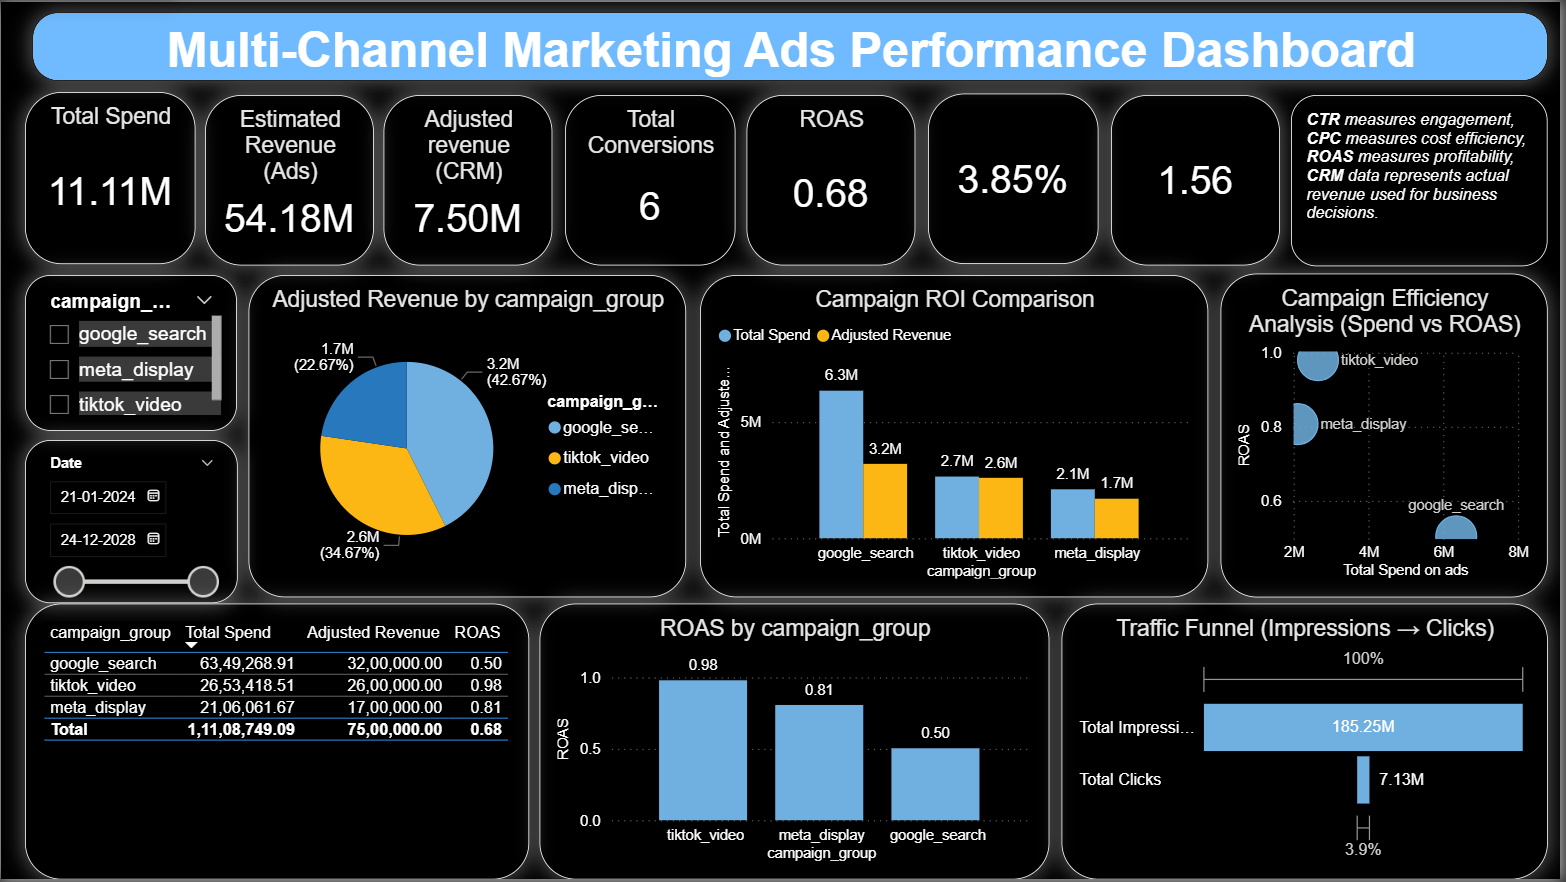

What the dashboard file says about the page in this screenshot:
{"tool":"powerbi","page":{"name":"Page 1","canvas":[1280,720],"ordinal":0},"visuals":[{"type":"card","title":"Total Spend","fields":{"Values":["Ads Data.Total Spend"]},"box":[20,74.3,140,141.4],"z":1000},{"type":"card","title":"Estimated Revenue (Ads) ","fields":{"Values":["Ads Data.Total Revenue"]},"box":[167.5,76.2,138.8,140],"z":2000},{"type":"card","title":"Total Conversions","fields":{"Values":["CRM data.Total Conversions"]},"box":[462.5,76.2,140,140],"z":3000},{"type":"card","title":"ROAS","fields":{"Values":["CRM data.ROAS"]},"box":[612.5,76.2,138.8,140],"z":4000},{"type":"clusteredColumnChart","title":"Campaign ROI Comparison","fields":{"Category":["dim_campaign.campaign_group"],"Y":["Ads Data.Total Spend","CRM data.Adjusted Revenue"]},"box":[573.9,224.1,417.5,264.8],"z":5000},{"type":"card","fields":{"Values":["CRM data.CTR"]},"box":[761.4,75.7,140,140],"z":6000},{"type":"clusteredColumnChart","fields":{"Y":["CRM data.ROAS"],"Category":["dim_campaign.campaign_group"]},"box":[442.1,493.9,418.7,226.6],"z":7000},{"type":"pieChart","fields":{"Category":["dim_campaign.campaign_group"],"Y":["CRM data.Adjusted Revenue"]},"box":[203.2,224.1,359.6,264.8],"z":8000},{"type":"funnel","title":"Traffic Funnel (Impressions → Clicks)","fields":{"Y":["Ads Data.Total Impressions","Ads Data.Total Clicks"]},"box":[870.7,493.9,399,226.6],"z":9000},{"type":"slicer","fields":{"Values":["Ads Data.campaign_group"]},"box":[20.1,224,173.8,127.8],"z":10000},{"type":"slicer","fields":{"Values":["Ads Data.date"]},"box":[19.7,359.6,174.9,134.2],"z":11000},{"type":"card","title":"Adjusted revenue (CRM)","fields":{"Values":["CRM data.Adjusted Revenue"]},"box":[313.8,76.2,138.8,140],"z":12000},{"type":"card","fields":{"Values":["Ads Data.CPC"]},"box":[911.2,76.2,138.8,140],"z":13000},{"type":"textbox","box":[1059.1,76.4,210.6,140.4],"z":14000},{"type":"textbox","title":"Multi-Channel Marketing Ads Performance Dashboard","box":[25.7,8.6,1244.3,55.7],"z":15000},{"type":"scatterChart","title":"Campaign Efficiency Analysis (Spend vs ROAS)","fields":{"X":["Ads Data.Total Spend"],"Y":["CRM data.ROAS"],"Size":["CRM data.Total Conversions"],"Category":["dim_campaign.campaign_group"]},"box":[1001.4,222.9,268.6,265.7],"z":16000},{"type":"tableEx","fields":{"Values":["dim_campaign.campaign_group","Ads Data.Total Spend","CRM data.Adjusted Revenue","CRM data.ROAS"]},"box":[19.7,493.9,413.8,226.6],"z":17000}]}

Visuals, with their boxes in screenshot pixels (x1, y1, x2, y2), scaled from the page's 1280x720 canvas onto the 1566x882 screenshot:
"Total Spend" card: pyautogui.locateOnScreen(24, 91, 196, 264)
"Estimated Revenue (Ads) " card: pyautogui.locateOnScreen(205, 93, 375, 265)
"Total Conversions" card: pyautogui.locateOnScreen(566, 93, 737, 265)
"ROAS" card: pyautogui.locateOnScreen(749, 93, 919, 265)
"Campaign ROI Comparison" clusteredColumnChart: pyautogui.locateOnScreen(702, 275, 1213, 599)
card - CRM data.CTR: pyautogui.locateOnScreen(932, 93, 1103, 264)
clusteredColumnChart - CRM data.ROAS x dim_campaign.campaign_group: pyautogui.locateOnScreen(541, 605, 1053, 881)
pieChart - dim_campaign.campaign_group x CRM data.Adjusted Revenue: pyautogui.locateOnScreen(249, 275, 689, 599)
"Traffic Funnel (Impressions → Clicks)" funnel: pyautogui.locateOnScreen(1065, 605, 1553, 881)
slicer - Ads Data.campaign_group: pyautogui.locateOnScreen(25, 274, 237, 431)
slicer - Ads Data.date: pyautogui.locateOnScreen(24, 441, 238, 605)
"Adjusted revenue (CRM)" card: pyautogui.locateOnScreen(384, 93, 554, 265)
card - Ads Data.CPC: pyautogui.locateOnScreen(1115, 93, 1285, 265)
textbox: pyautogui.locateOnScreen(1296, 94, 1553, 266)
"Multi-Channel Marketing Ads Performance Dashboard" textbox: pyautogui.locateOnScreen(31, 11, 1554, 79)
"Campaign Efficiency Analysis (Spend vs ROAS)" scatterChart: pyautogui.locateOnScreen(1225, 273, 1554, 599)
tableEx - dim_campaign.campaign_group x Ads Data.Total Spend: pyautogui.locateOnScreen(24, 605, 530, 881)
